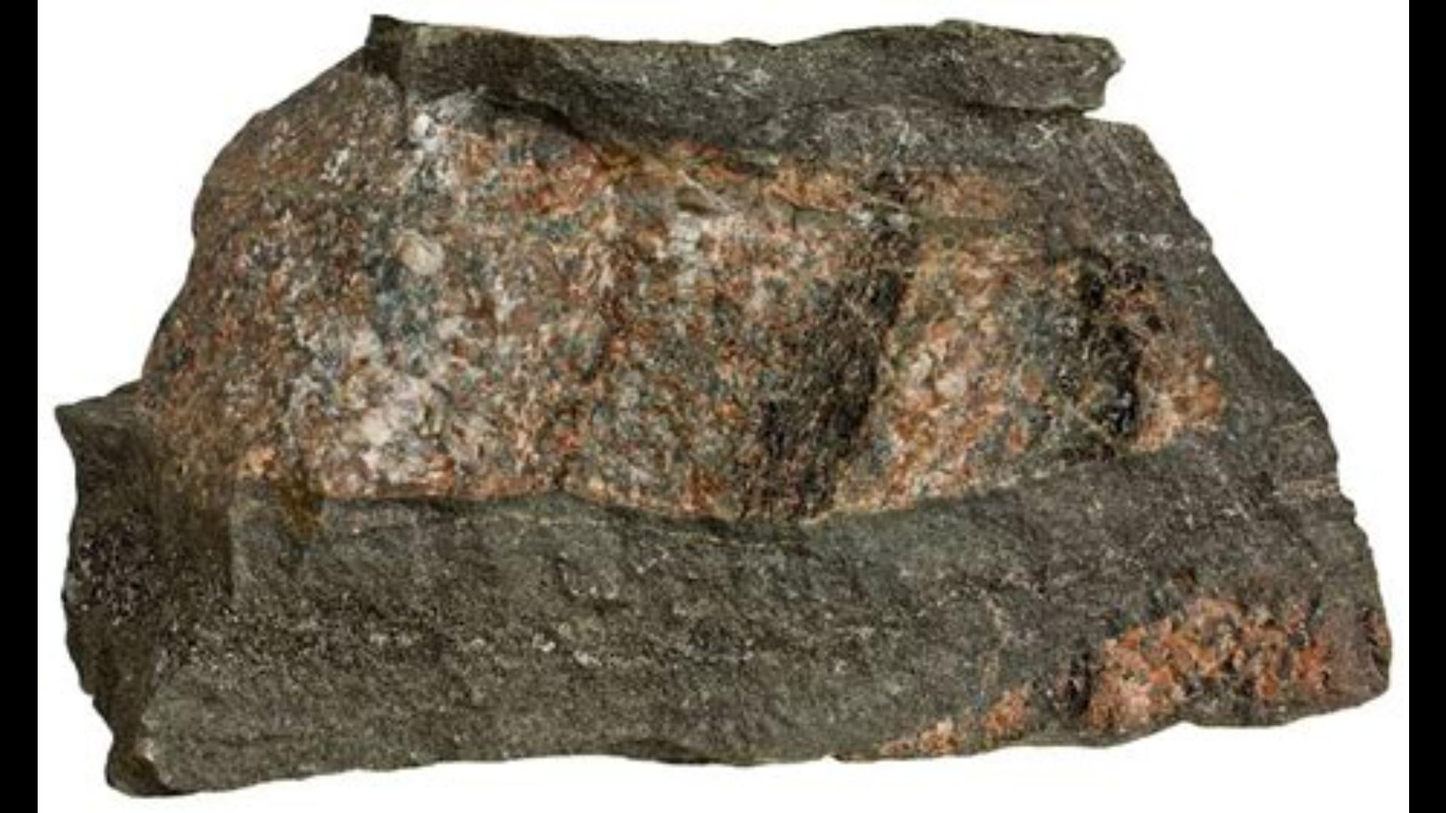rock: (57, 17, 1386, 790)
